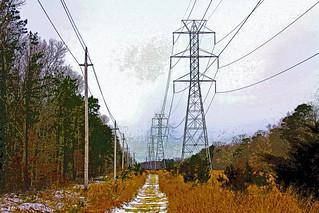power_tower: (169, 15, 222, 179), (151, 109, 169, 174)
